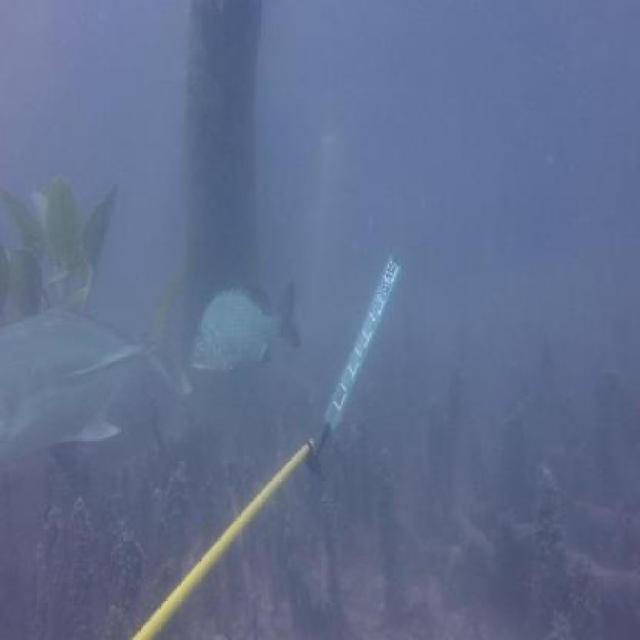Caranx: (0, 267, 192, 452)
acanthopagrus_palmaris: (192, 278, 302, 377)
